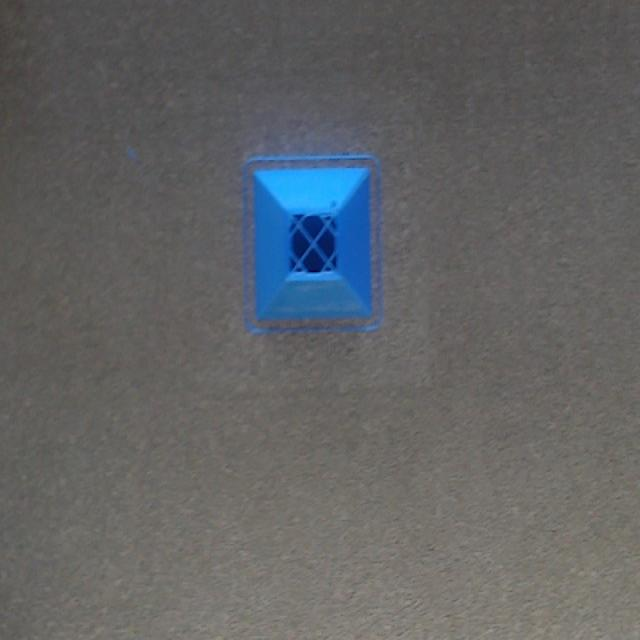mistake: (318, 199, 341, 237)
